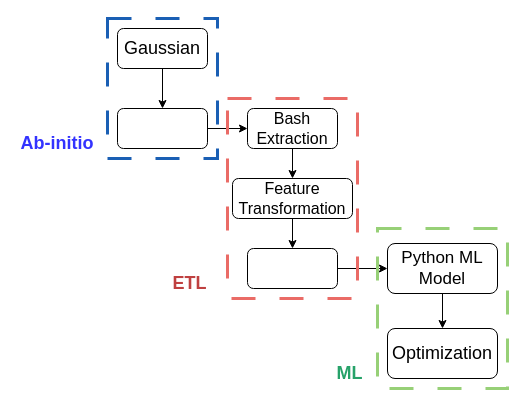
This 526x407 diagram has some shape labels left out. The centre of each missing label's shape, as x and y in pixels:
Dalton: [162,128]
SQLite: [292,268]
